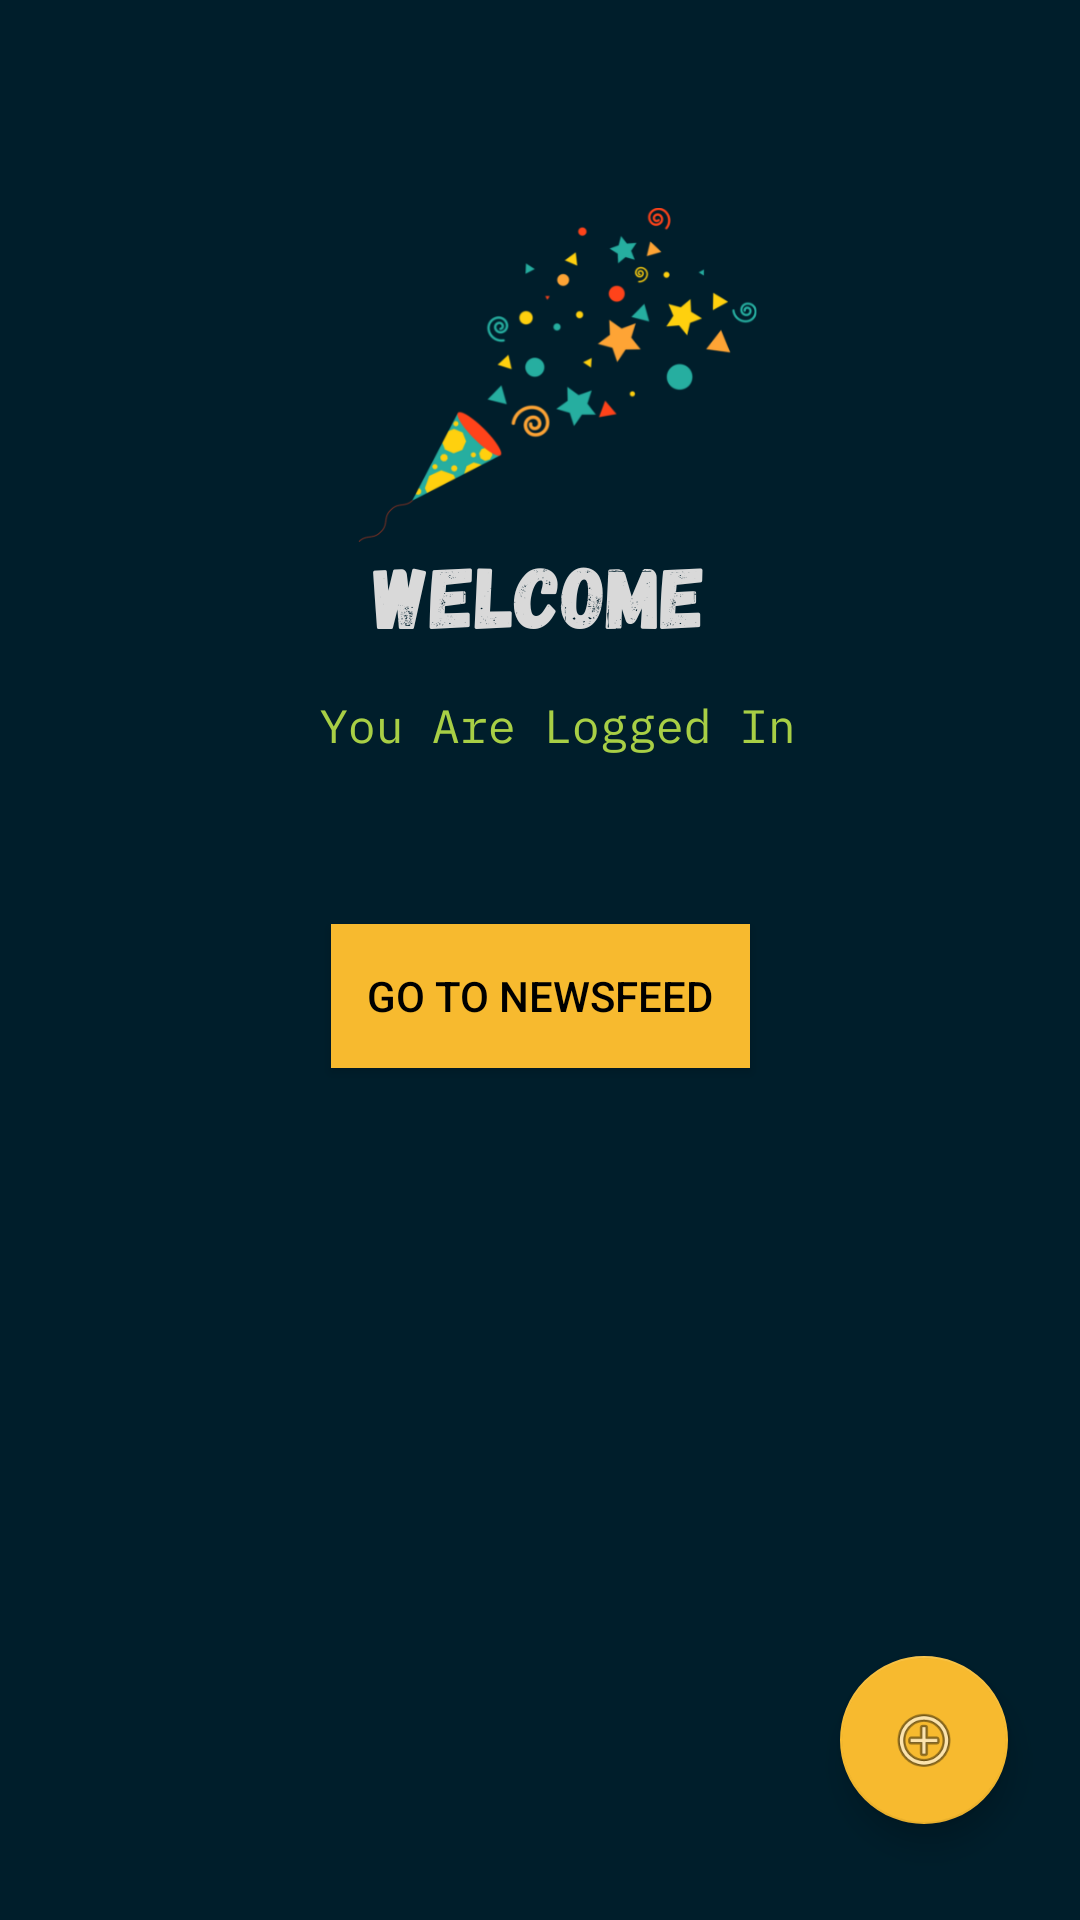

Icons on this 1080*1920 Android screen, each with the point to tap as [x,y]:
add: [924,1740]
